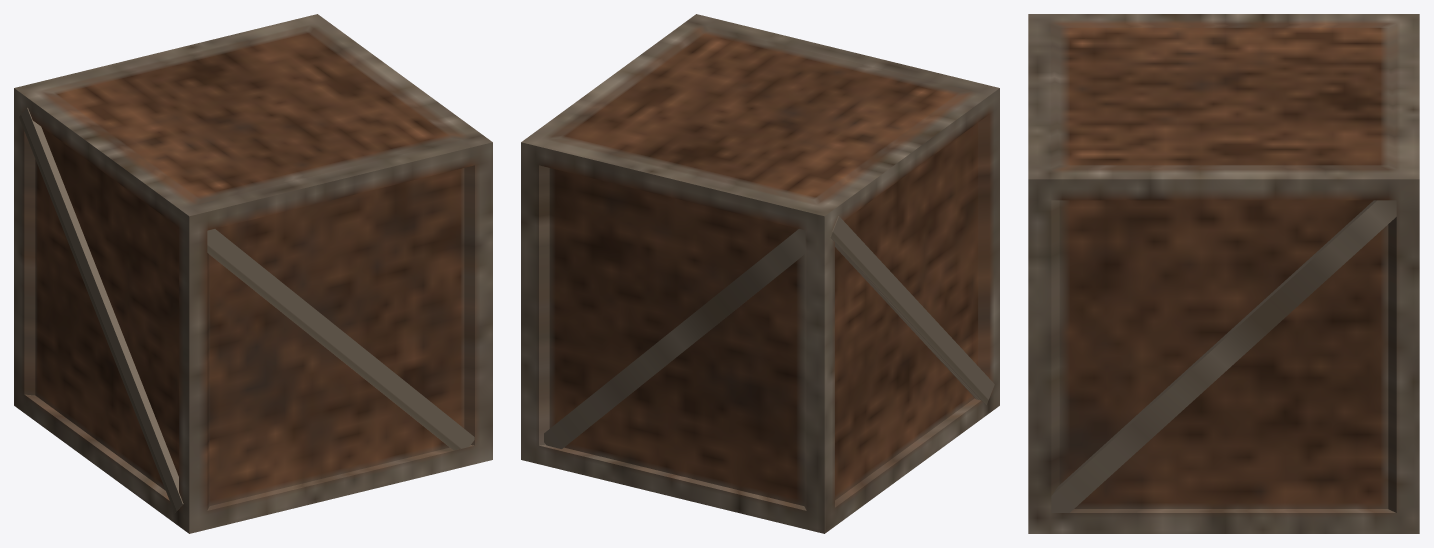
Rendered from Caja.obj.
3 renders of one model, left to right at view 1: azimuth 30°, elevation 25°; view 2: azimuth 150°, elevation 25°; view 3: azimuth 270°, elevation 25°, orthographic. The views are drawn at different scales.
Parts seen in each view (by area): view 1: Cube.071_Cube.124, Cube.072_Cube.126, Cube.074_Cube.128; view 2: Cube.071_Cube.124, Cube.073_Cube.127, Cube.074_Cube.128; view 3: Cube.071_Cube.124, Cube.070_Cube.125.
Part boxes in pixels (x1,y1,x2,y2): Cube.071_Cube.124: [14, 14, 492, 533]; Cube.072_Cube.126: [207, 229, 474, 450]; Cube.074_Cube.128: [19, 108, 183, 512]; Cube.071_Cube.124: [521, 14, 999, 533]; Cube.073_Cube.127: [544, 229, 805, 448]; Cube.074_Cube.128: [830, 216, 994, 405]; Cube.071_Cube.124: [1028, 14, 1419, 533]; Cube.070_Cube.125: [1051, 200, 1396, 512].
Size of the model in its own units: 0.8825 by 0.8804 by 0.8804.
1 material, 1 textured.
